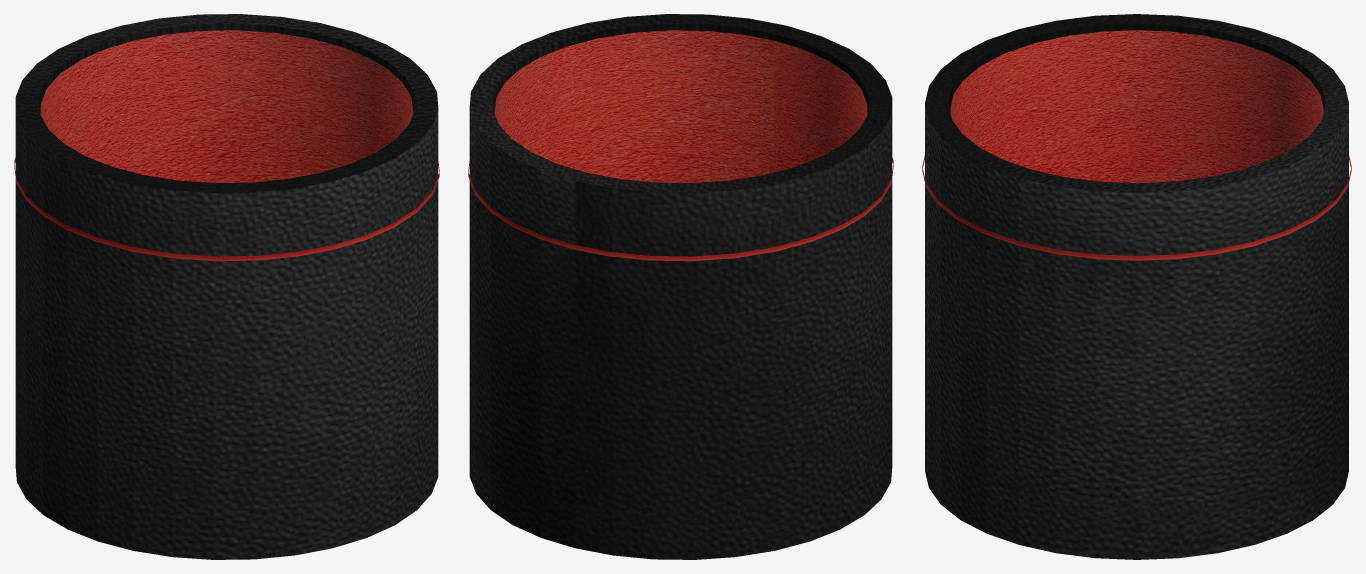
File: Dice_Botttle_verson2.fbx
3 views of the same model, side by side, from view 1: azimuth 30°, elevation 25°; view 2: azimuth 150°, elevation 25°; view 3: azimuth 270°, elevation 25° (orthographic).
Visible parts, largest first — view 1: Cylinder, Surface, Surface.001; view 2: Cylinder, Surface, Surface.001; view 3: Cylinder, Surface, Surface.001.
Boxes of the visible parts, x1,y1,x2,y2 form: Cylinder: (15,14,438,559); Surface: (40,30,413,182); Surface.001: (14,157,439,261); Cylinder: (469,14,892,559); Surface: (494,30,867,182); Surface.001: (468,157,893,261); Cylinder: (925,14,1348,559); Surface: (950,30,1323,183); Surface.001: (922,155,1351,260).
Bounding box in the file's own units: 329 × 314 × 333.
Materials: 4 (4 with a texture image).
